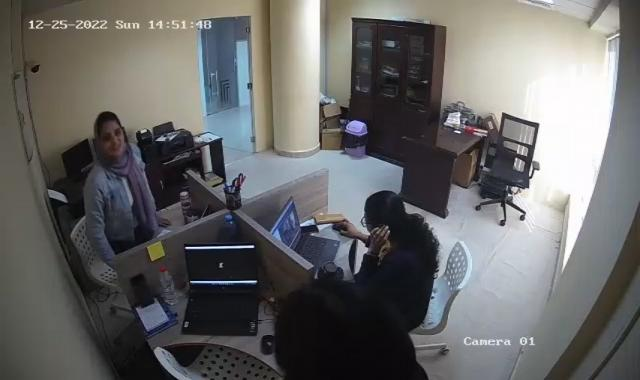no_hairnet: (278, 279, 410, 380), (364, 189, 408, 227), (93, 110, 127, 157)
